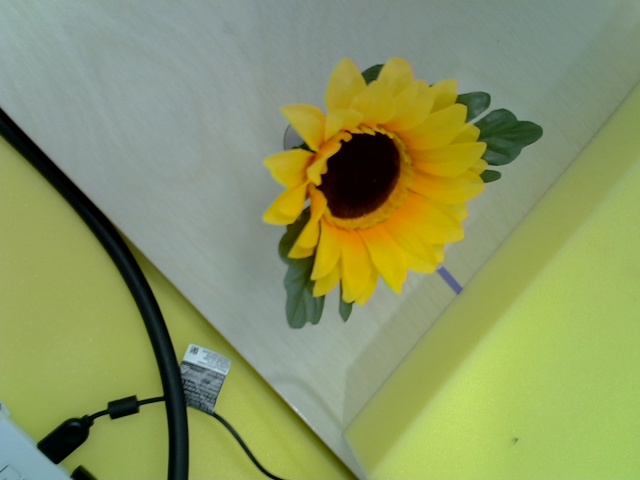해바라기: (266, 57, 482, 306)
